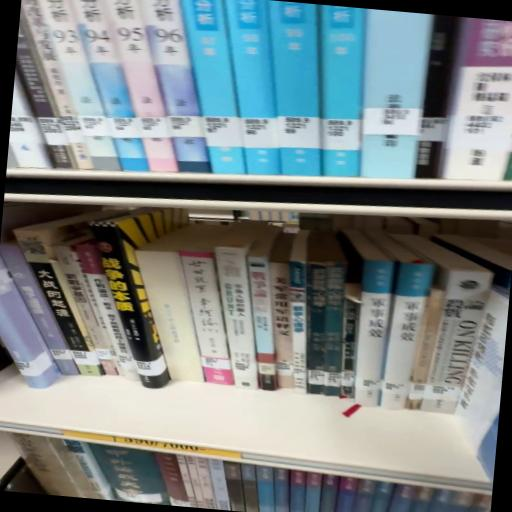backward: (135, 225, 212, 382)
